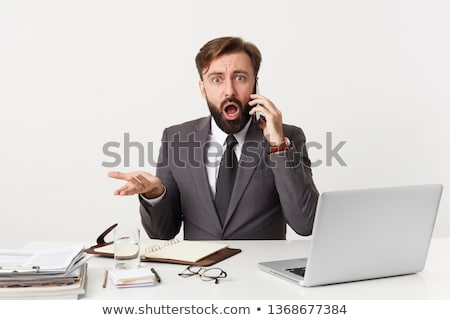phone: (246, 83, 269, 128)
talk: (203, 70, 286, 147)
